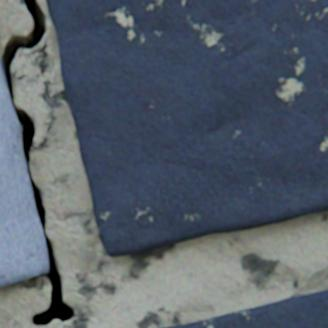brick: (46, 0, 327, 257), (0, 63, 48, 287), (164, 290, 327, 327)
crack: (0, 0, 75, 327)
